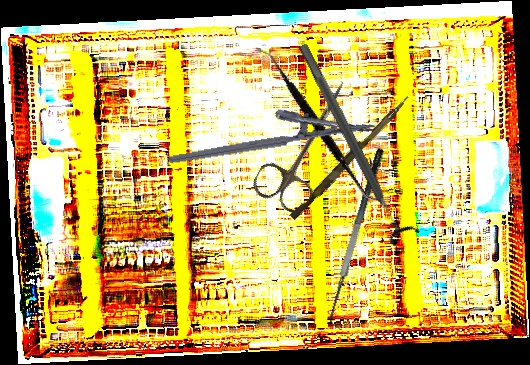Fixation Ring: (286, 37, 422, 248)
Iris Scissors: (248, 67, 367, 218)
Needle Holder: (163, 94, 377, 166)
Pusher: (289, 90, 411, 224)
Spatula Surgical: (219, 45, 420, 205), (319, 147, 400, 331)
